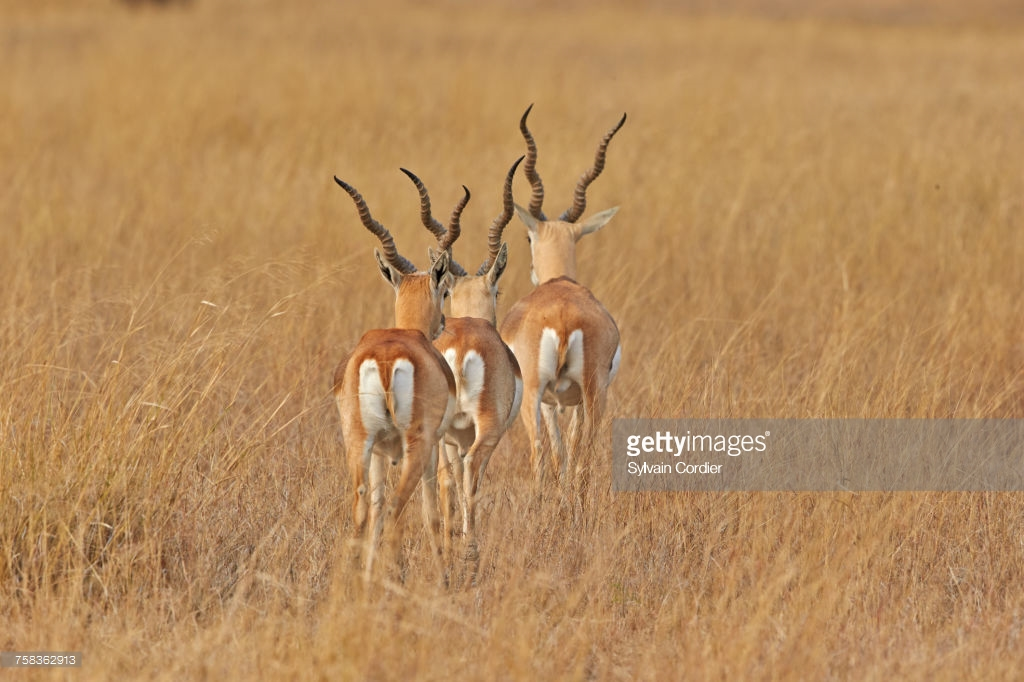Deer: (500, 103, 625, 527), (331, 174, 455, 601), (405, 167, 525, 575)
